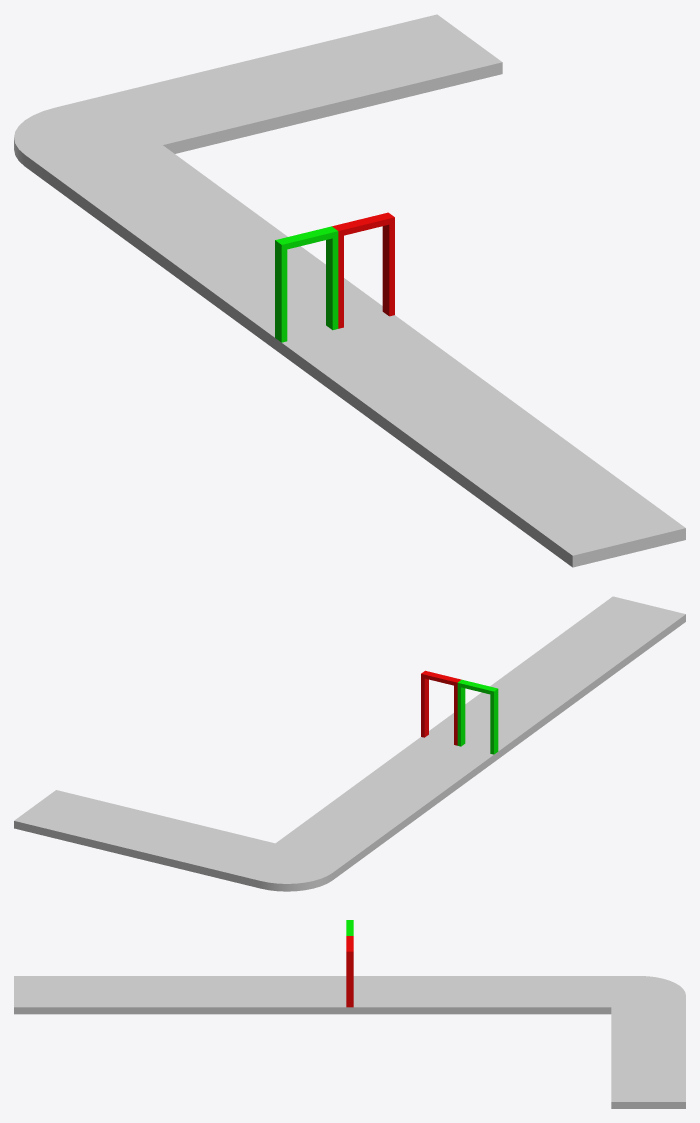
Rendered from Environment.fbx.
3 views of the same model, one above another, from view 1: azimuth 30°, elevation 25°; view 2: azimuth 150°, elevation 25°; view 3: azimuth 270°, elevation 25° (orthographic). The views are drawn at different scales.
Visible parts, largest first — view 1: Path.turn, Path.long.001, Path.long.003, Path.long, Path.long.002, Path.short, PortalRed, Portal.001, Portal.003; view 2: Path.turn, Path.long.003, Path.long.001, Path.long.002, Path.long, Path.short, PortalRed, Portal.001, Portal.003; view 3: Path.turn, Path.long, Path.long.002, Path.long.001, Path.long.003, Path.short, PortalRed.
Part boxes in pixels (x1=…): Path.turn: x1=14, y1=69, x2=275, y2=232; Path.long.001: x1=442, y1=432, x2=685, y2=567; Path.long.003: x1=211, y1=14, x2=502, y2=129; Path.long: x1=311, y1=336, x2=554, y2=471; Path.long.002: x1=115, y1=193, x2=358, y2=327; Path.short: x1=245, y1=289, x2=423, y2=375; PortalRed: x1=332, y1=212, x2=394, y2=328; Portal.001: x1=275, y1=243, x2=287, y2=342; Portal.003: x1=326, y1=234, x2=338, y2=330; Path.turn: x1=160, y1=812, x2=390, y2=891; Path.long.003: x1=14, y1=790, x2=201, y2=863; Path.long.001: x1=529, y1=596, x2=685, y2=682; Path.long.002: x1=318, y1=751, x2=474, y2=837; Path.long: x1=444, y1=658, x2=601, y2=744; Path.short: x1=402, y1=720, x2=517, y2=775; PortalRed: x1=421, y1=670, x2=461, y2=745; Portal.001: x1=490, y1=691, x2=498, y2=754; Portal.003: x1=457, y1=685, x2=465, y2=746; Path.turn: x1=536, y1=976, x2=685, y2=1038; Path.long: x1=163, y1=976, x2=312, y2=1014; Path.long.002: x1=387, y1=976, x2=536, y2=1014; Path.long.001: x1=14, y1=976, x2=163, y2=1014; Path.long.003: x1=611, y1=1039, x2=685, y2=1108; Path.short: x1=312, y1=976, x2=387, y2=1014; PortalRed: x1=346, y1=936, x2=353, y2=1007.
Size of the model in its own units: 800 by 185 by 1800.
